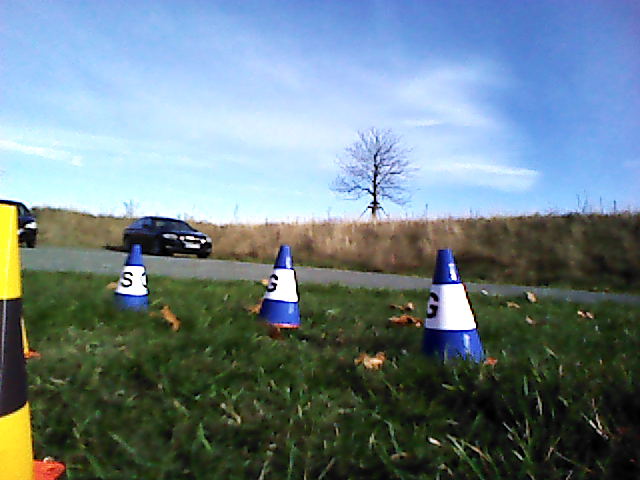bluecone: (424, 250, 484, 362), (260, 245, 300, 323), (114, 244, 152, 305)
